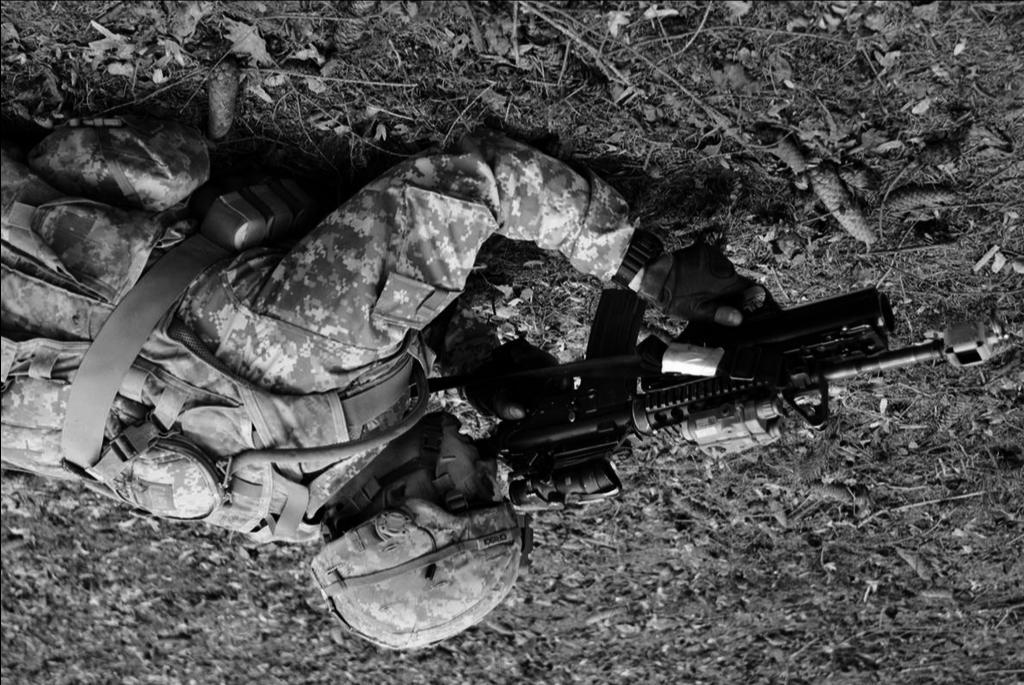gun: (481, 283, 942, 508)
